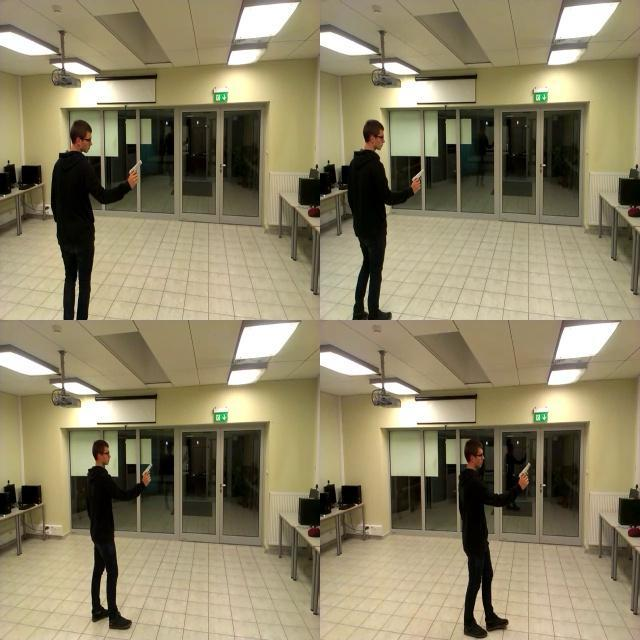gun-knife-thesis - v11 Yolov5 augmented: (408, 160, 425, 194), (122, 154, 141, 184), (513, 455, 531, 483), (136, 459, 152, 480)
